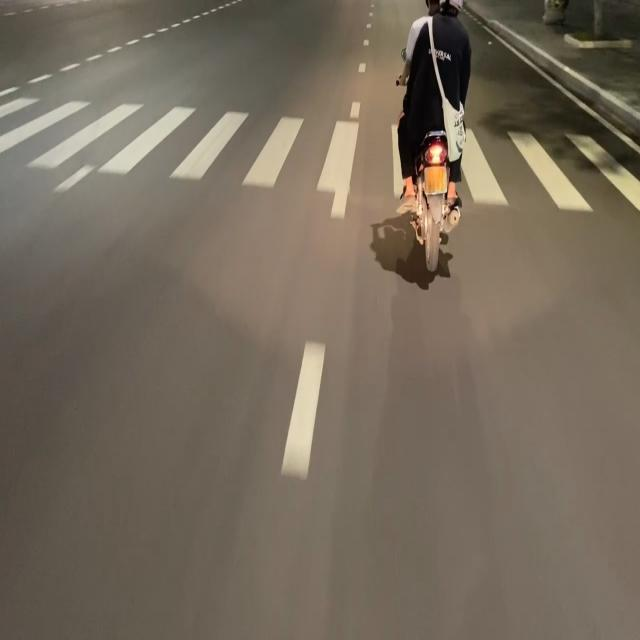walk-crossing: (4, 96, 638, 203)
